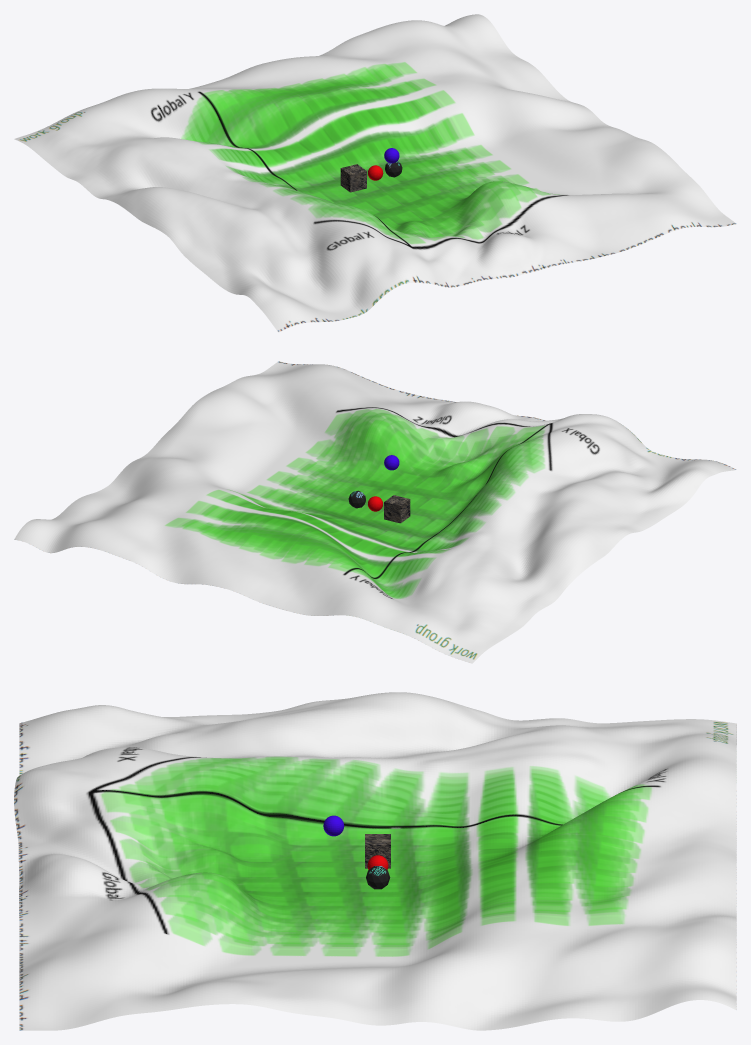
File: texture.glb
3 renders of one model, top to bottom at view 1: azimuth 30°, elevation 25°; view 2: azimuth 150°, elevation 25°; view 3: azimuth 270°, elevation 25°, orthographic. The views are drawn at different scales.
Parts seen in each view (by area): view 1: Grid, Cube; view 2: Grid, Cube; view 3: Grid, Cube.
Boxes of the visible parts, x1,y1,x2,y2 form: Grid: [14, 14, 736, 332]; Cube: [340, 164, 366, 192]; Grid: [14, 361, 736, 663]; Cube: [384, 495, 410, 523]; Grid: [14, 692, 736, 1030]; Cube: [365, 834, 390, 868].
Size of the model in its own units: 34.41 by 3.28 by 34.34.
Materials: 5 (3 with a texture image).
